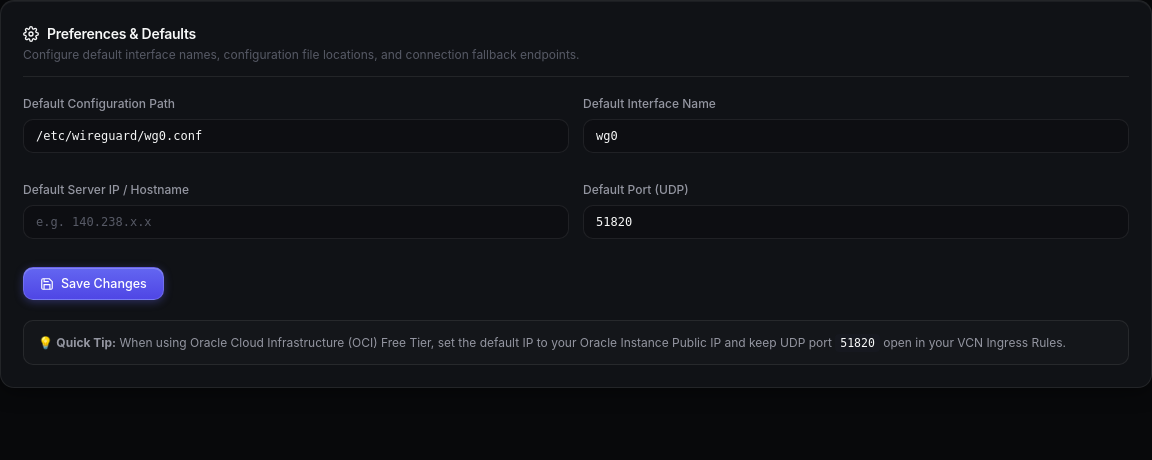
SettingsPanel › updates input fields and handles save click
In the field with placeholder "e.g. 140.238.x.x": [296, 222] box [23,205,569,239], type "198.51.100.1"
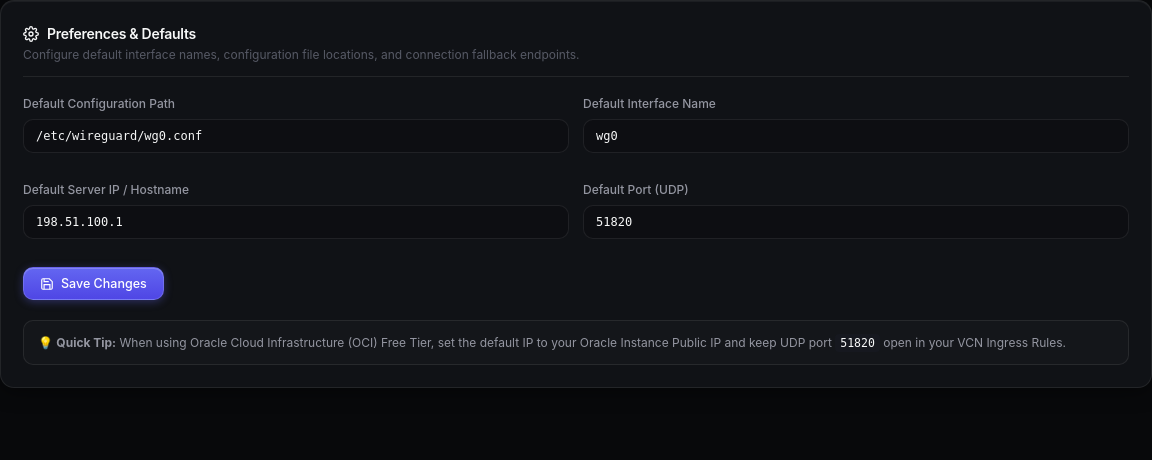
Click the button "Save Changes": [93, 284] box [23,267,164,300]
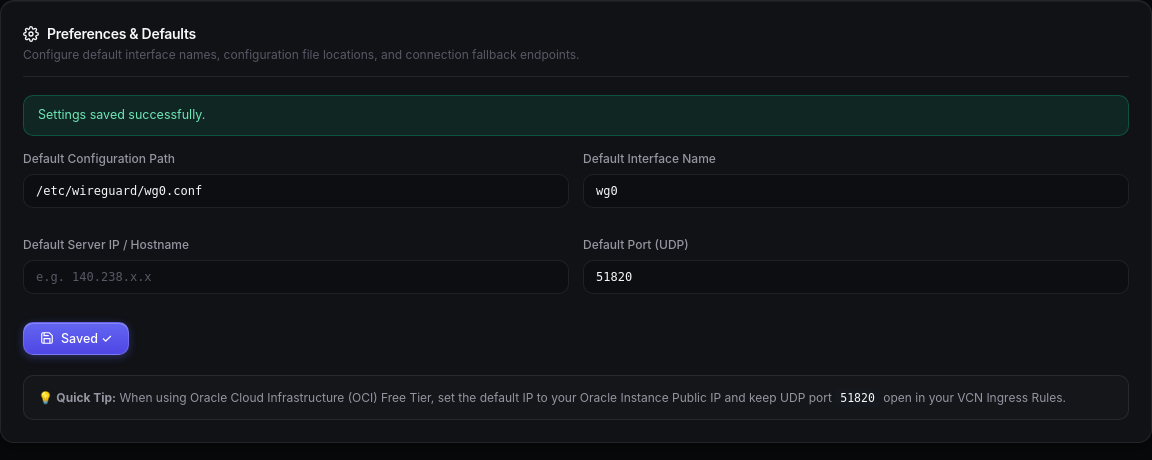
Now the text "Settings saved successfully." is shown, box [23,95,1129,136]
